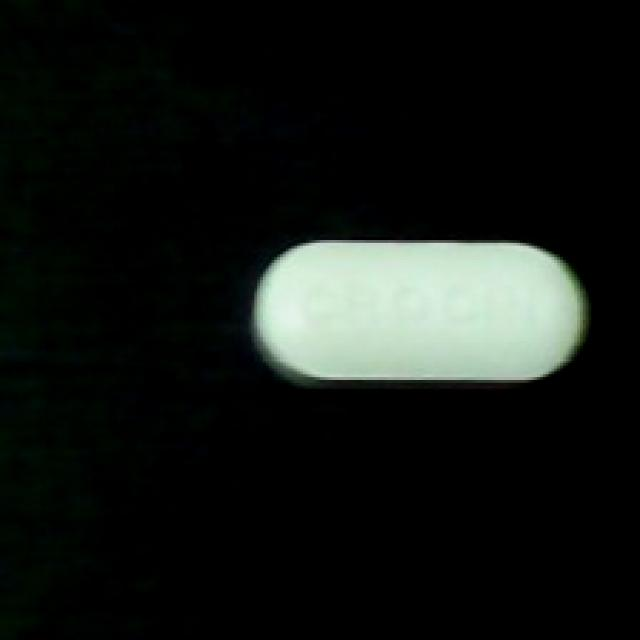no-defect: (246, 226, 594, 397)
